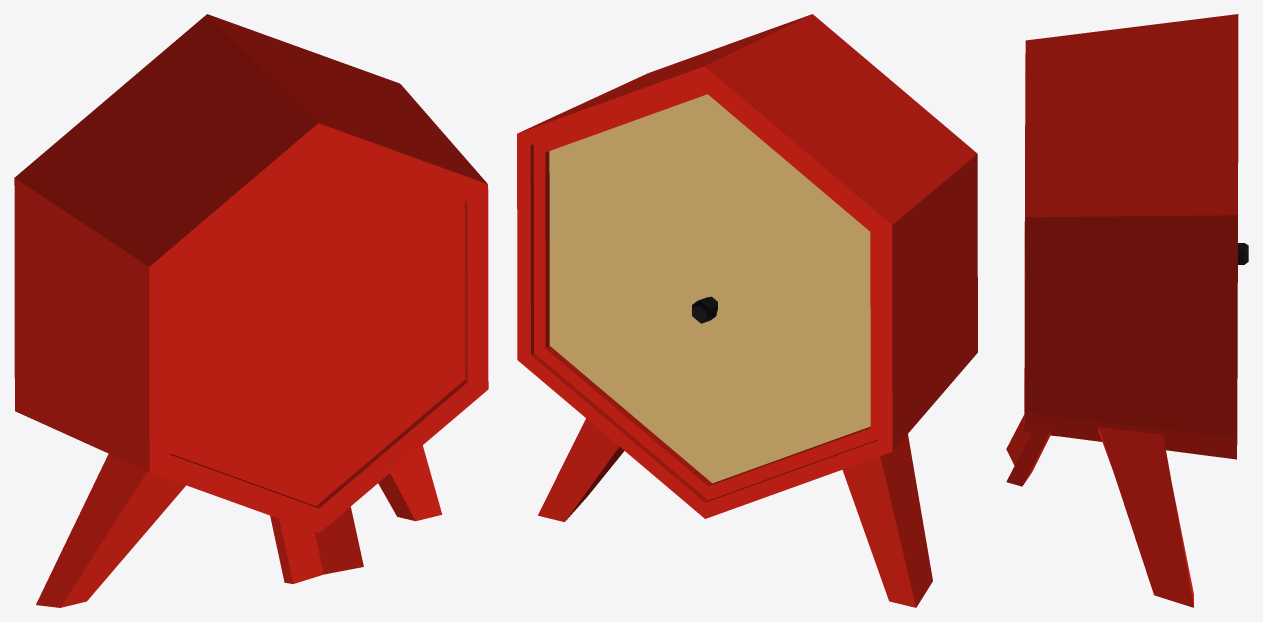
Rendered from Alarm Clock.fbx.
3 renders of one model, left to right at view 1: azimuth 30°, elevation 25°; view 2: azimuth 150°, elevation 25°; view 3: azimuth 270°, elevation 25°, orthographic. The views are drawn at different scales.
Parts seen in each view (by area): view 1: Alarm Clock; view 2: Alarm Clock; view 3: Alarm Clock.
Boxes of the visible parts, <box> form: Alarm Clock: <box>14,14,488,607</box>; Alarm Clock: <box>517,14,977,607</box>; Alarm Clock: <box>1006,14,1248,607</box>.
Bounding box in the file's own units: 0.1747 × 0.4001 × 0.3096.
